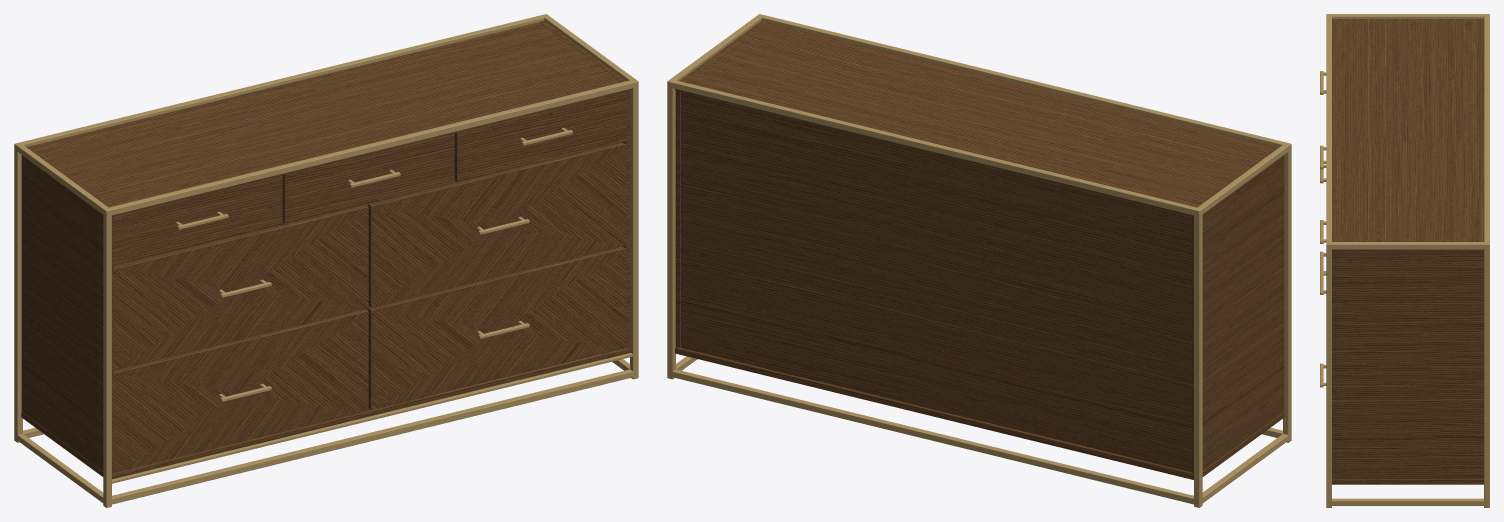
3 renders of one model, left to right at view 1: azimuth 30°, elevation 25°; view 2: azimuth 150°, elevation 25°; view 3: azimuth 270°, elevation 25°, orthographic. The views are drawn at different scales.
Parts seen in each view (by area): view 1: SIENNA LV463-B61 | LV463-B61-01 optimized, Dresser lower drawer 4 sliding pivot optimized, Dresser lower drawer 3 sliding pivot optimized, Dresser lower drawer 2 sliding pivot optimized, Dresser lower drawer 1 sliding pivot optimized, Dresser upper drawer 2 sliding pivot optimized, Dresser upper drawer 3 sliding pivot optimized, Dresser upper drawer 1 sliding pivot optimized; view 2: SIENNA LV463-B61 | LV463-B61-01 optimized; view 3: SIENNA LV463-B61 | LV463-B61-01 optimized.
Part boxes in pixels (left/top/right/bottom): SIENNA LV463-B61 | LV463-B61-01 optimized: left=14, top=14, right=638, bottom=507; Dresser lower drawer 4 sliding pivot optimized: left=368, top=142, right=626, bottom=307; Dresser lower drawer 3 sliding pivot optimized: left=113, top=205, right=368, bottom=370; Dresser lower drawer 2 sliding pivot optimized: left=368, top=247, right=626, bottom=410; Dresser lower drawer 1 sliding pivot optimized: left=113, top=309, right=368, bottom=473; Dresser upper drawer 2 sliding pivot optimized: left=282, top=133, right=454, bottom=224; Dresser upper drawer 3 sliding pivot optimized: left=454, top=92, right=626, bottom=182; Dresser upper drawer 1 sliding pivot optimized: left=113, top=175, right=282, bottom=266; SIENNA LV463-B61 | LV463-B61-01 optimized: left=667, top=14, right=1291, bottom=507; SIENNA LV463-B61 | LV463-B61-01 optimized: left=1326, top=14, right=1489, bottom=507.
Size of the model in its own units: 1.5 by 0.8 by 0.467.
4 materials, 2 textured.
